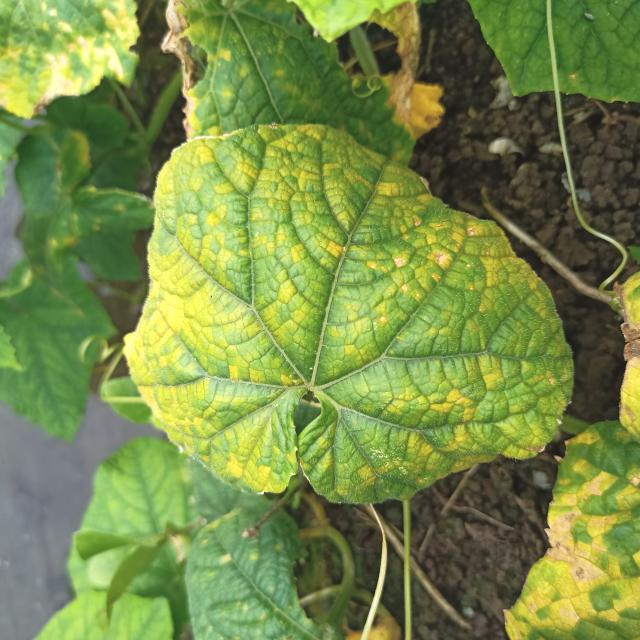disease_cucumber: (132, 130, 563, 496)
